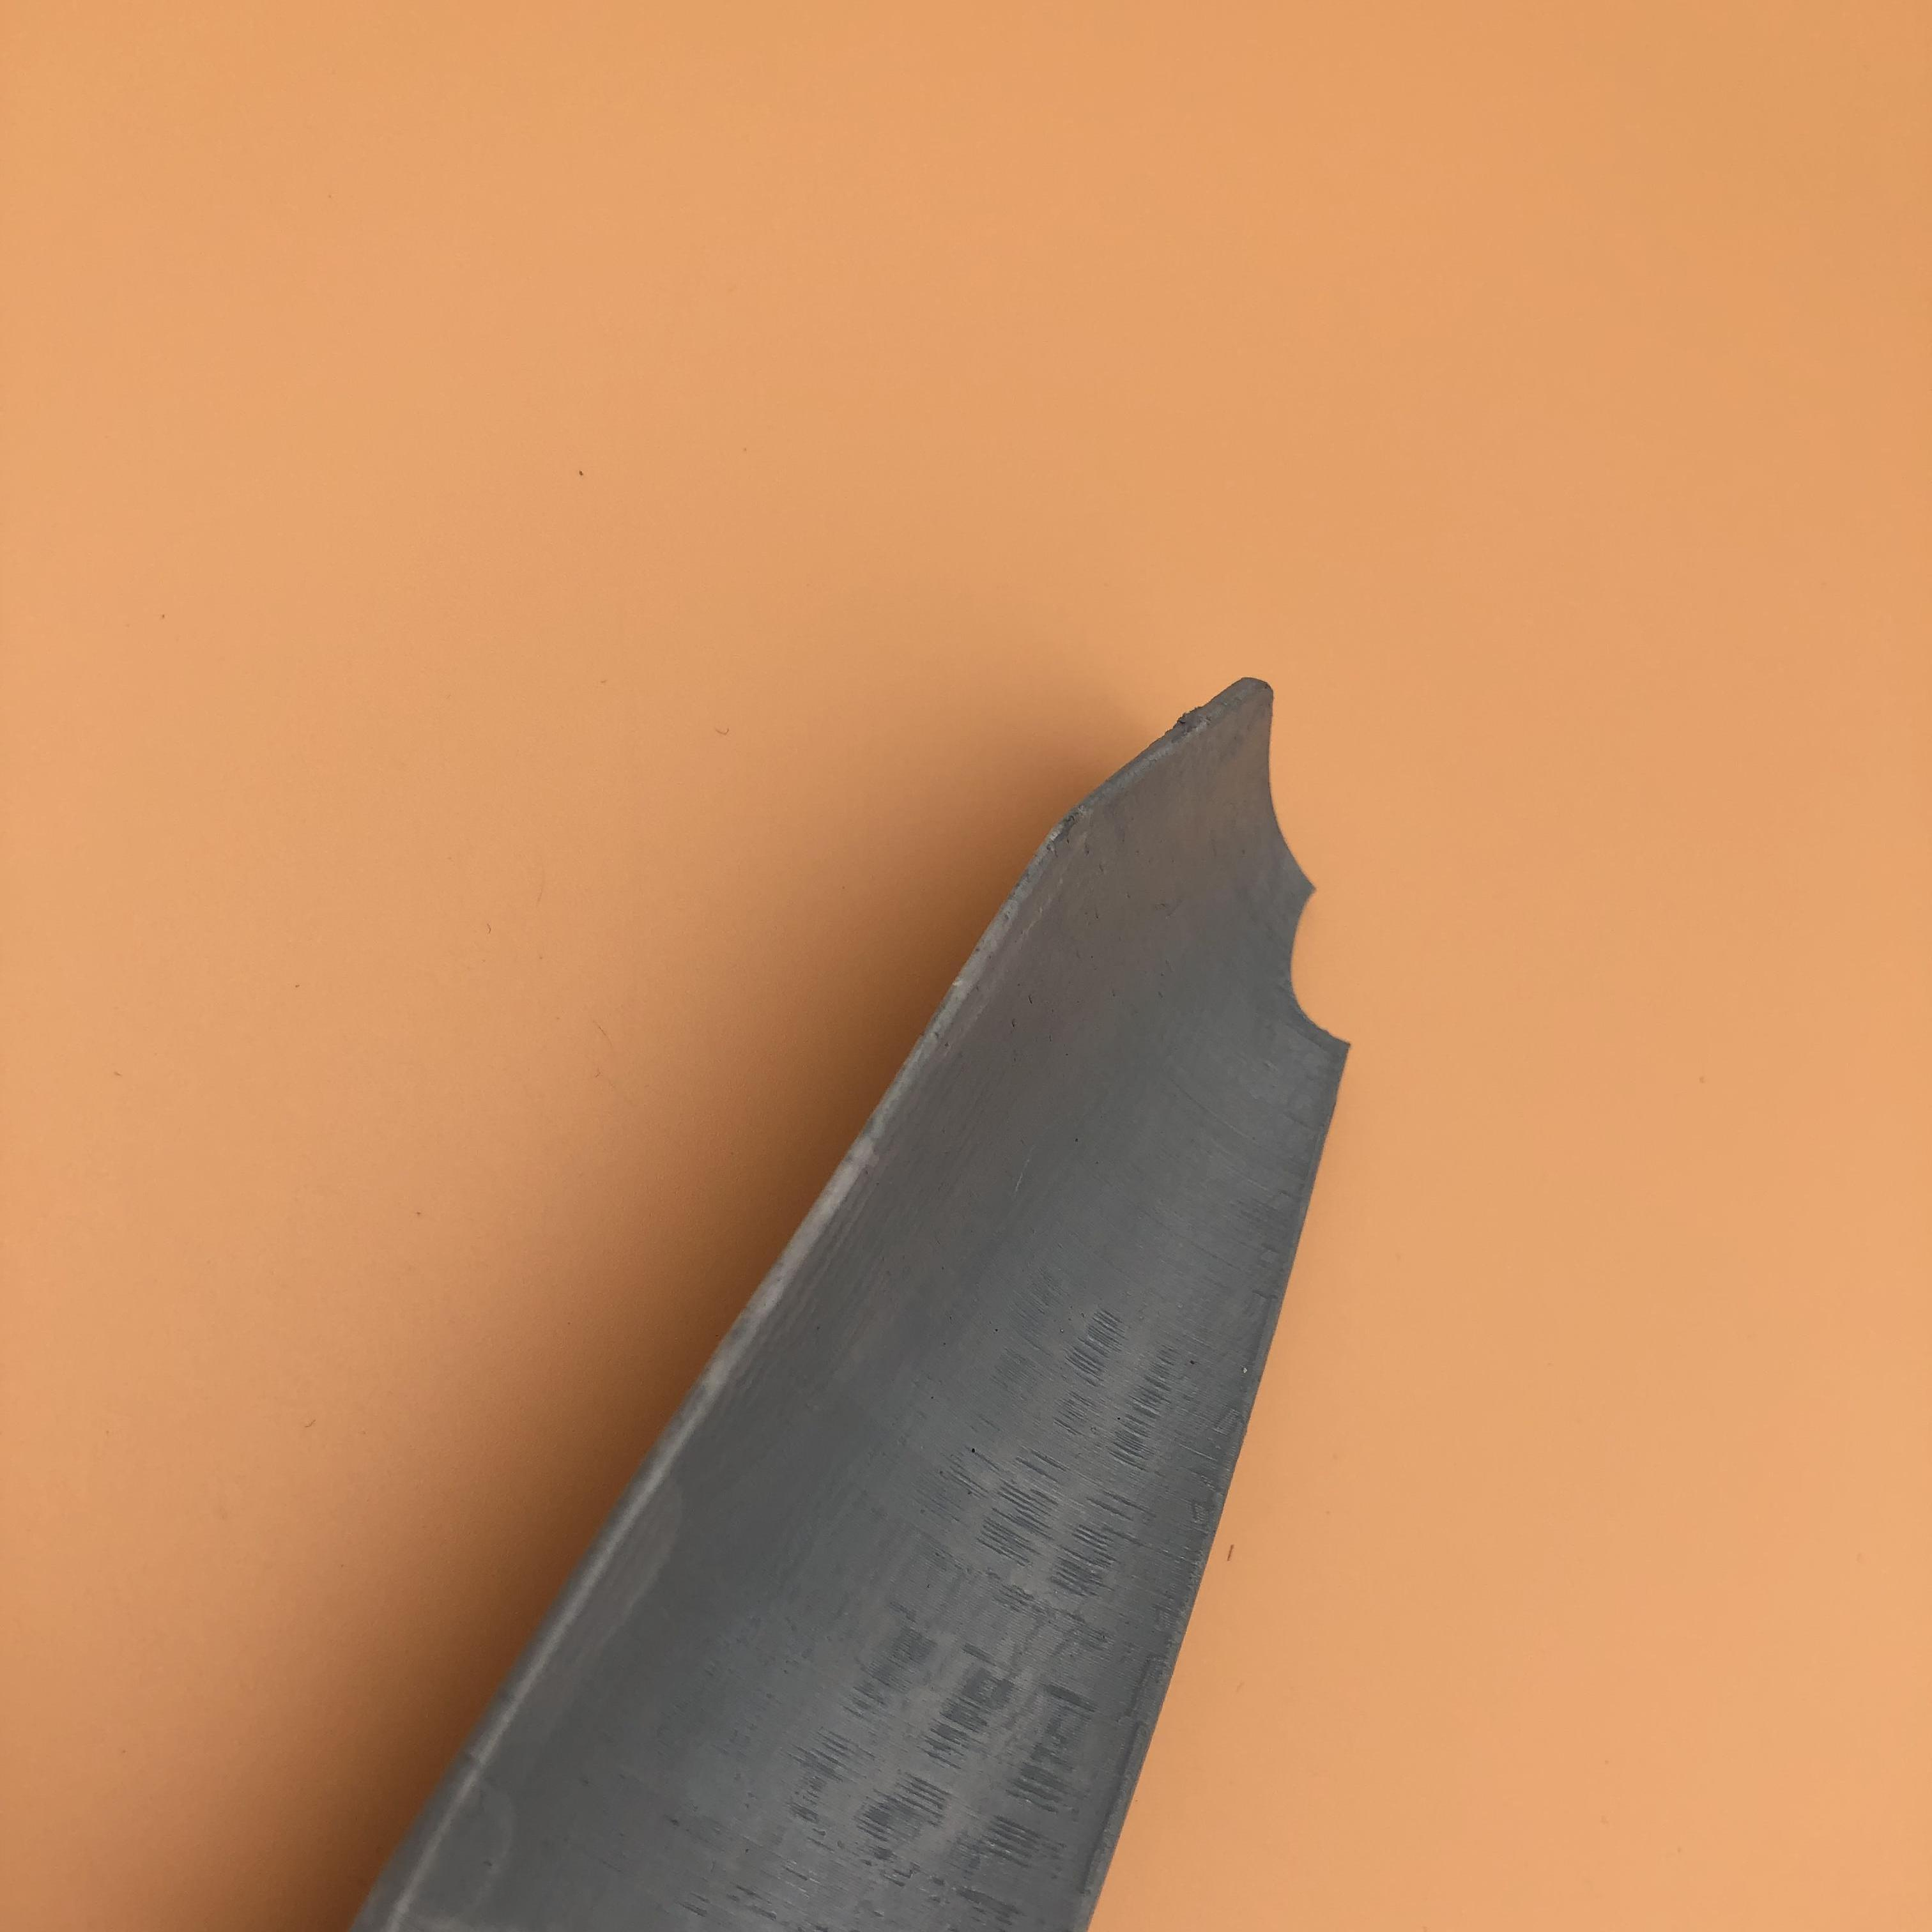fracture: (1231, 713, 1384, 1070)
